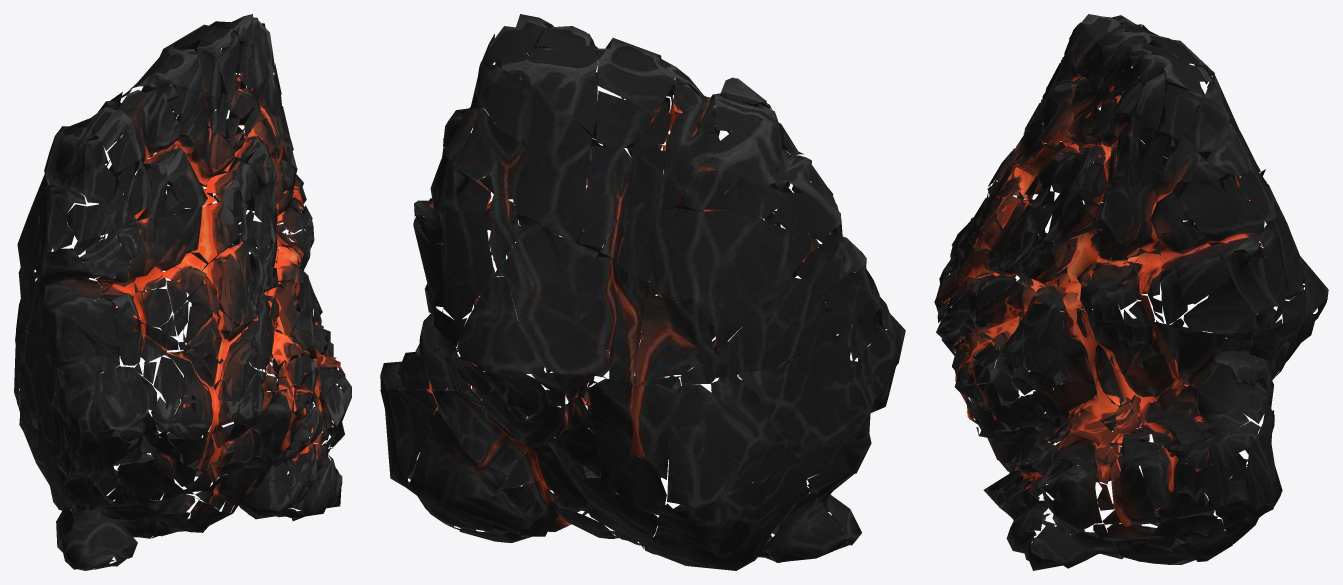
File: fire_rock.glb
The picture shows the model from 3 angles, left to right: view 1: azimuth 30°, elevation 25°; view 2: azimuth 150°, elevation 25°; view 3: azimuth 270°, elevation 25°; orthographic projection. The views are drawn at different scales.
Visible parts, largest first — view 1: LairFireRock; view 2: LairFireRock; view 3: LairFireRock.
Part boxes in pixels (box(x1,y1,x2,y2)): LairFireRock: box(14, 14, 351, 570); LairFireRock: box(380, 14, 905, 570); LairFireRock: box(934, 14, 1328, 570).
Size of the model in its own units: 0.7897 by 1 by 0.7156.
Materials: 1 (1 with a texture image).
